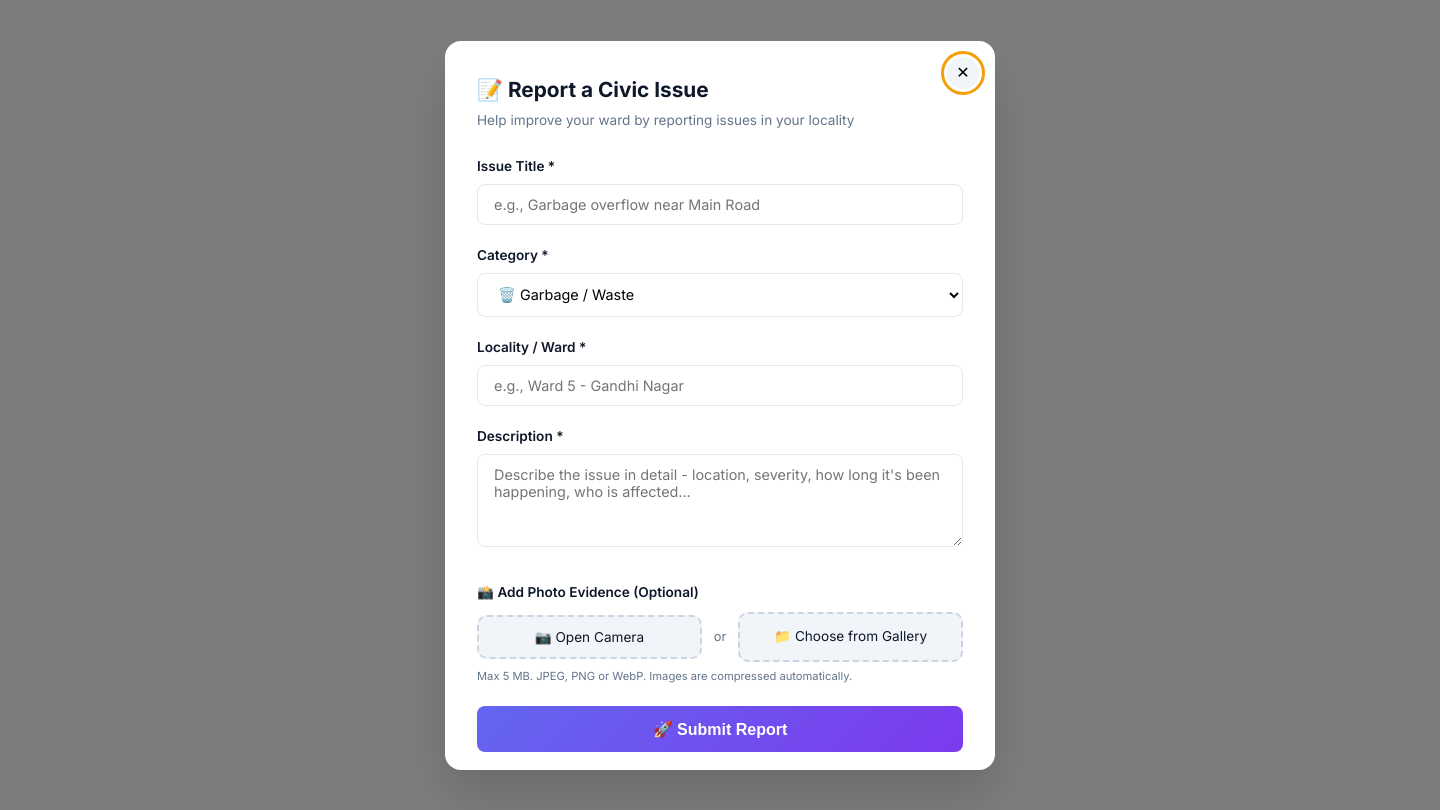
Test: complaint form › shows linked validation errors and does not submit incomplete reports
Click the button "🚀 Submit Report" at (720, 729), box [477,706,963,752]
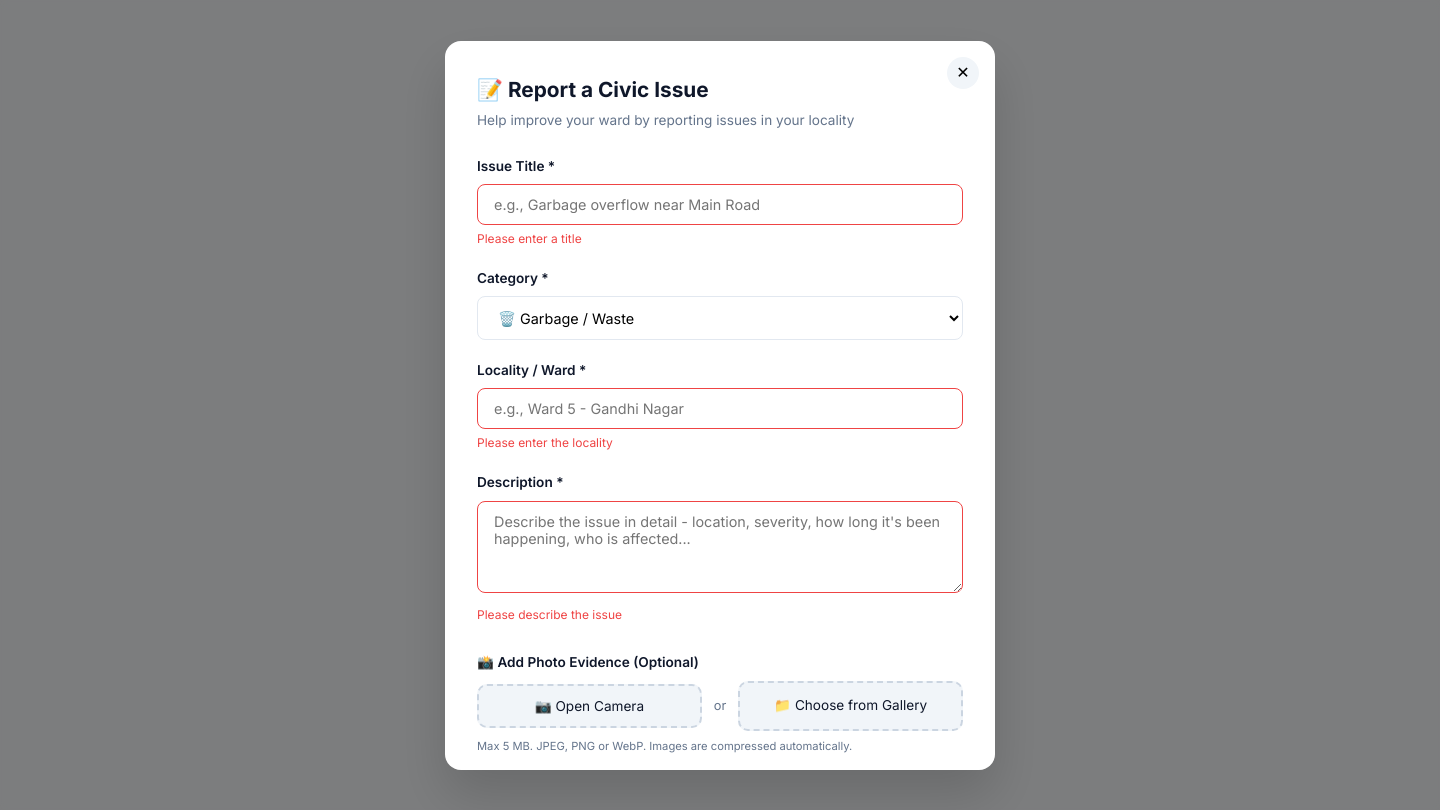
Expected: the text "Please enter a title" is shown, [477,231,582,246]
Expected: the text "Please describe the issue" is shown, [477,606,622,622]
Expected: the text "Please enter the locality" is shown, [477,435,613,450]
